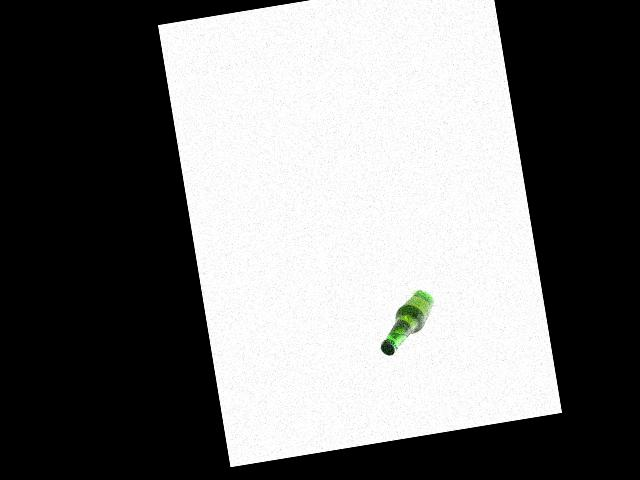beer: (372, 289, 441, 356)
